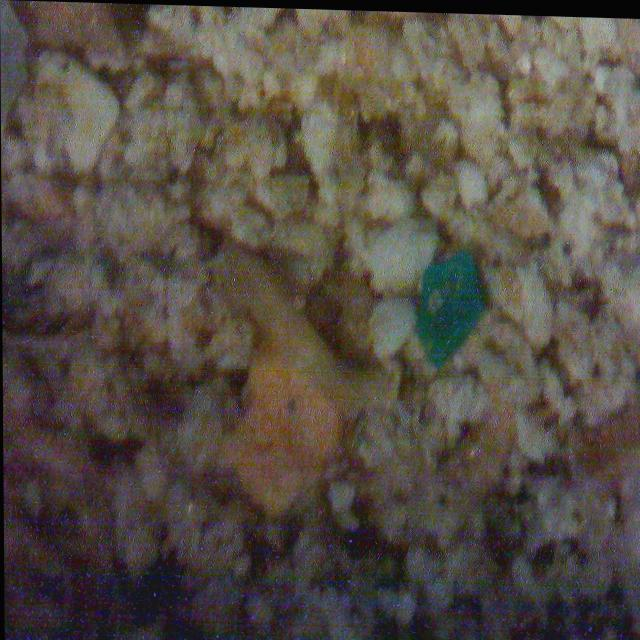microplastic: (380, 232, 510, 367)
